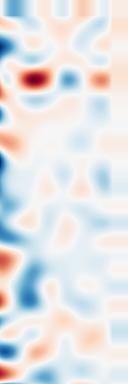filament: (13, 59, 62, 98)
